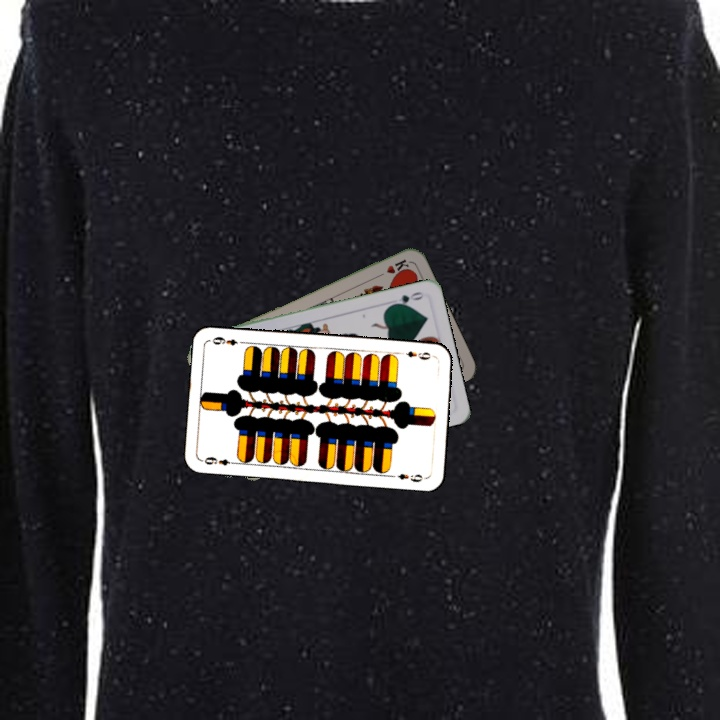E9: (199, 453, 239, 468), (402, 347, 437, 362)
GO: (387, 288, 426, 309)
HK: (372, 255, 411, 280)
